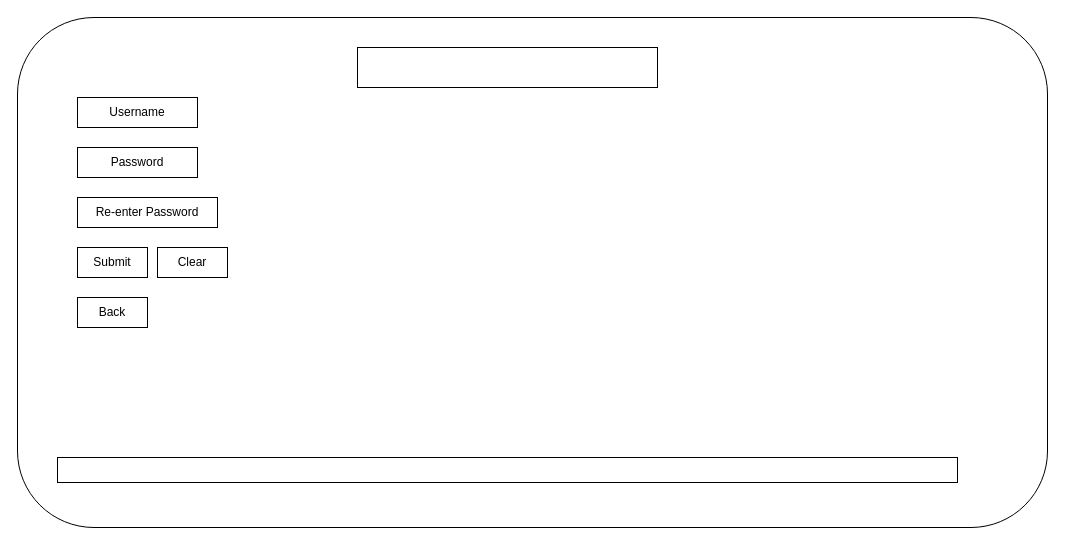
Some shapes in this 1065 by 545 pixel diagram are drawn without their labels. The centre of each missing label's shape, as x and y in pixels:
"Footer" goes at point 507,469.
"Student Hub Portal" goes at point 507,67.
